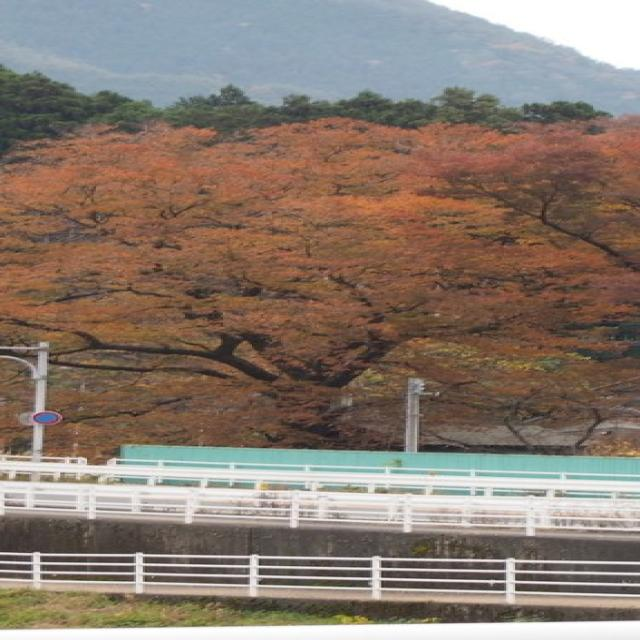zelkova: (0, 116, 640, 464)
